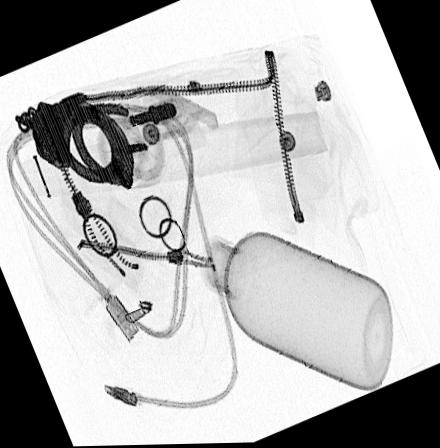HandCuffs: (14, 91, 136, 189)
